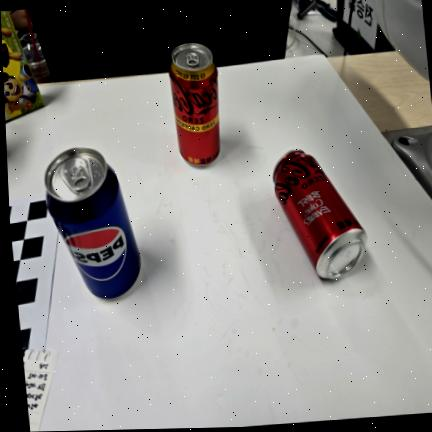can_coke_decaf: (169, 43, 221, 167)
can_coke_zero: (272, 148, 367, 280)
can_pepsi: (44, 146, 142, 299)
